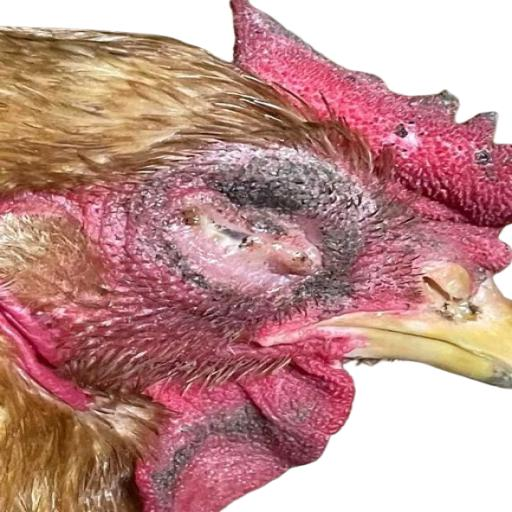disease: (154, 144, 368, 314), (370, 62, 512, 193)
